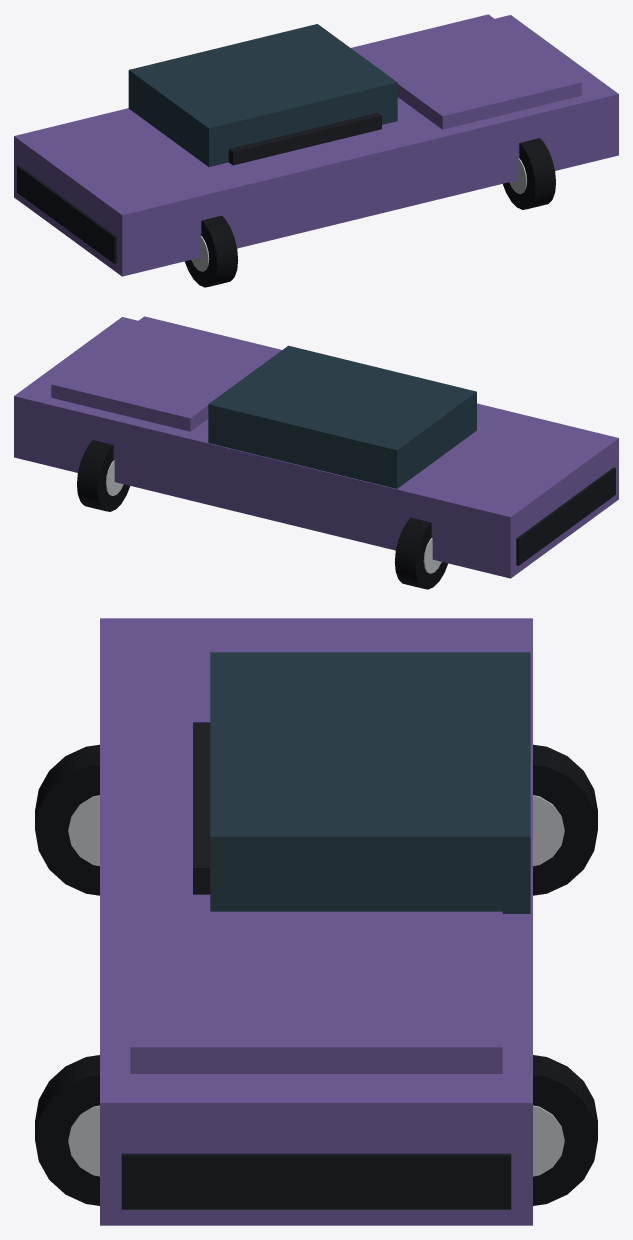
The model's file is rr_amethyst_droptail.glb.
The picture shows the model from 3 angles, top to bottom: view 1: azimuth 30°, elevation 25°; view 2: azimuth 150°, elevation 25°; view 3: azimuth 270°, elevation 25°; orthographic projection. The views are drawn at different scales.
Parts seen in each view (by area): view 1: body, cabin, hood, rear_bumper, interior, rear_right_wheel, front_right_wheel; view 2: body, cabin, hood, rear_bumper, rear_left_wheel, front_left_wheel; view 3: body, cabin, hood, front_bumper, rear_left_wheel, rear_right_wheel, front_left_wheel, front_right_wheel, interior.
Boxes of the visible parts, box(x1,y1,x2,y2) form: body: box(14, 15, 618, 276); cabin: box(128, 24, 397, 166); hood: box(351, 14, 581, 129); rear_bumper: box(17, 165, 116, 263); interior: box(228, 112, 381, 165); rear_right_wheel: box(184, 215, 238, 287); front_right_wheel: box(503, 138, 555, 209); body: box(14, 317, 618, 578); cabin: box(208, 345, 476, 488); hood: box(51, 316, 281, 431); rear_bumper: box(516, 467, 615, 565); rear_left_wheel: box(394, 517, 448, 589); front_left_wheel: box(77, 440, 129, 511); body: box(100, 618, 532, 1225); cabin: box(210, 652, 530, 913); hood: box(130, 911, 502, 1073); front_bumper: box(121, 1153, 511, 1209); rear_left_wheel: box(533, 744, 597, 895); rear_right_wheel: box(35, 744, 99, 895); front_left_wheel: box(533, 1055, 597, 1205); front_right_wheel: box(35, 1055, 99, 1205); interior: box(193, 722, 210, 894).
Size of the model in its own units: 5.35 by 1.32 by 2.6.
